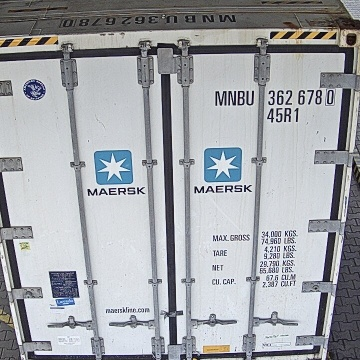serial_id: (215, 88, 335, 105)
